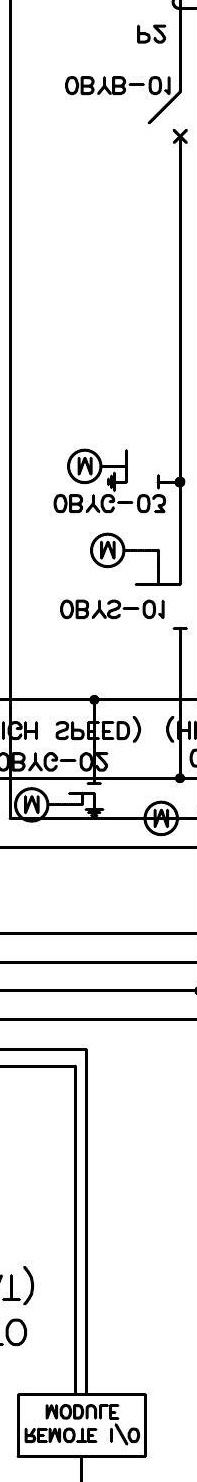115_1way_ds_w_motor: (89, 532, 189, 630)
115_breaker: (147, 91, 189, 145)
115_gs_w_motor: (66, 448, 160, 493), (13, 782, 106, 824)
remote_io_module: (16, 1393, 147, 1458)
